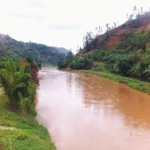River: (27, 57, 150, 150)
